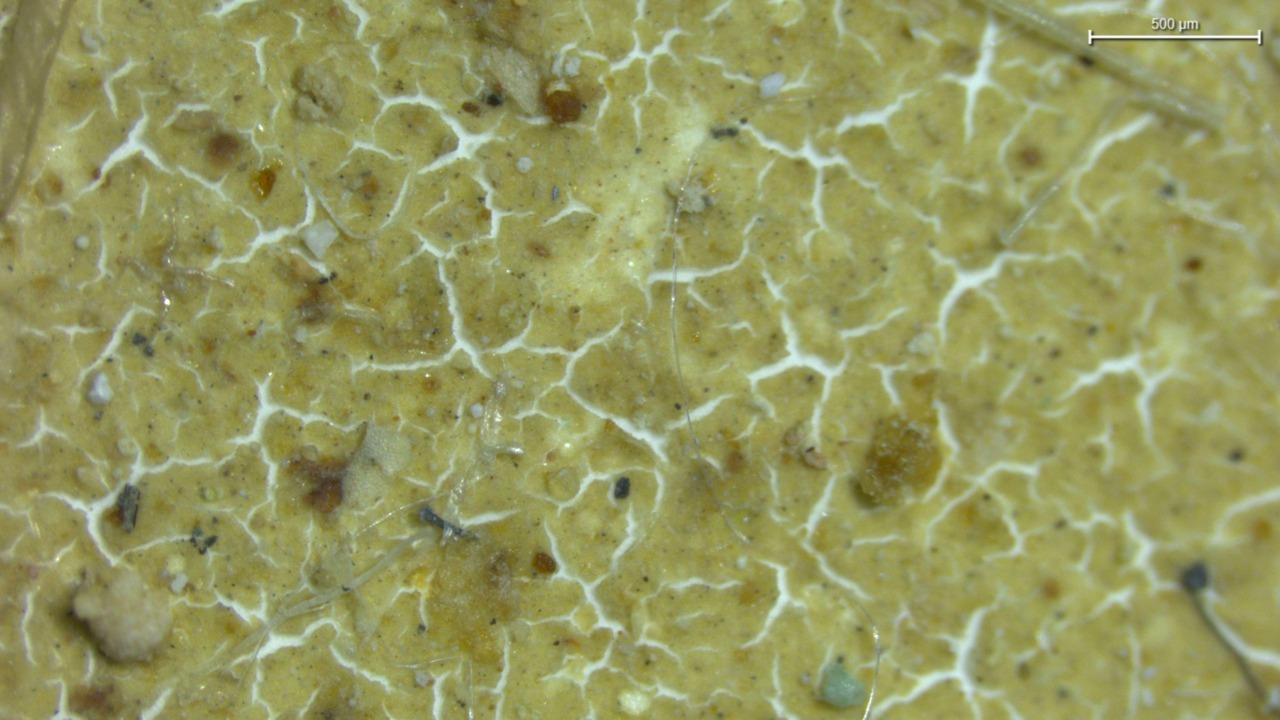microplastic_fragment: (72, 568, 175, 665), (347, 420, 410, 510), (299, 218, 339, 258), (89, 377, 114, 404), (759, 73, 786, 98)
